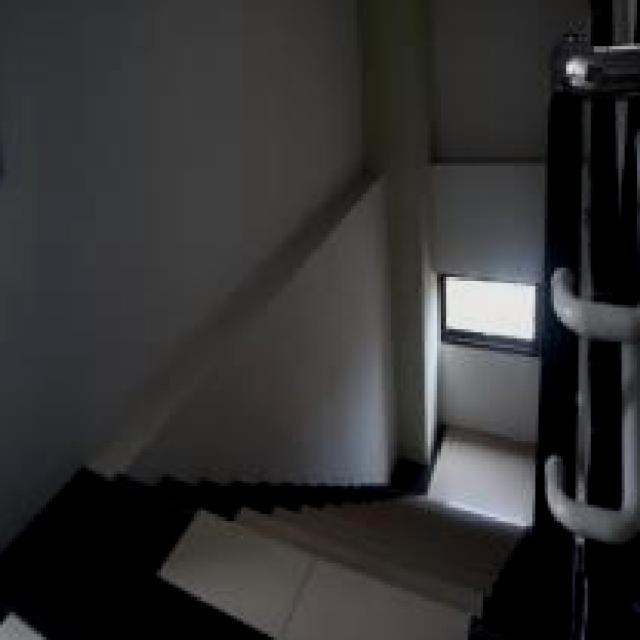downstair: (152, 499, 530, 640)
